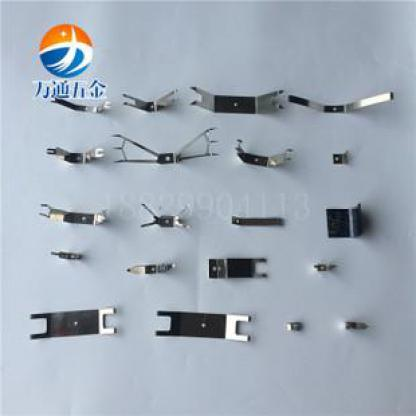FOD: (151, 310, 253, 344), (284, 88, 398, 115), (36, 201, 112, 231), (235, 139, 295, 168), (45, 143, 105, 167)
